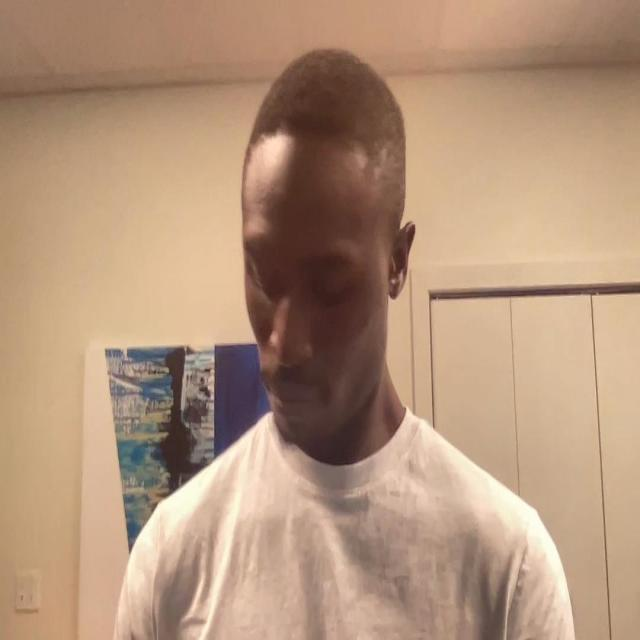face: (241, 127, 405, 447)
